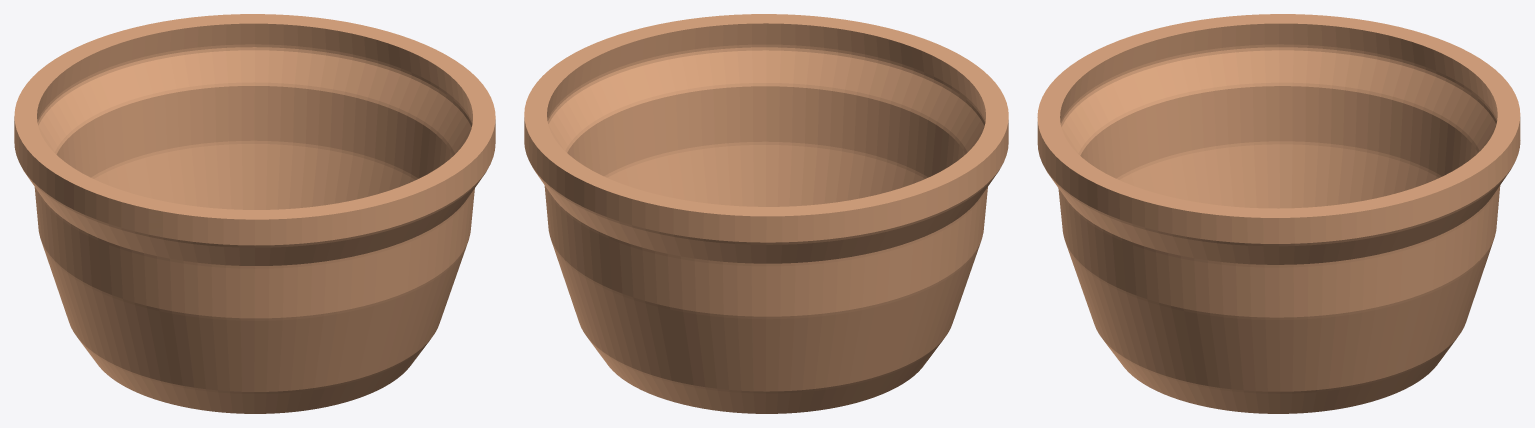
Rendered from Pot_04_Low_Wide_Planter.glb.
3 renders of one model, left to right at view 1: azimuth 30°, elevation 25°; view 2: azimuth 150°, elevation 25°; view 3: azimuth 270°, elevation 25°, orthographic.
Visible parts, largest first — view 1: Pot_04_Low_Wide_Planter; view 2: Pot_04_Low_Wide_Planter; view 3: Pot_04_Low_Wide_Planter.
Part boxes in pixels (bbox=[...]): Pot_04_Low_Wide_Planter: bbox=[14, 14, 495, 413]; Pot_04_Low_Wide_Planter: bbox=[524, 14, 1008, 413]; Pot_04_Low_Wide_Planter: bbox=[1037, 14, 1520, 413].
Size of the model in its own units: 0.278 by 0.1464 by 0.2781.
